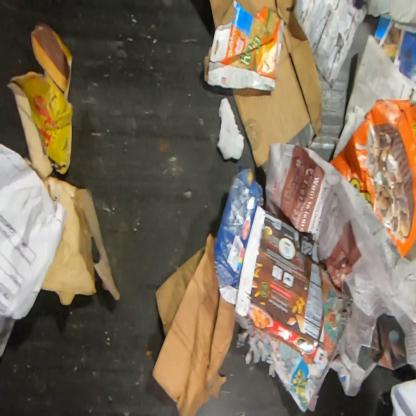cardboard: (151, 233, 238, 415), (232, 0, 323, 169), (328, 98, 415, 262), (5, 22, 74, 178), (41, 176, 121, 306), (204, 0, 284, 92), (214, 164, 264, 305), (210, 0, 236, 30)
